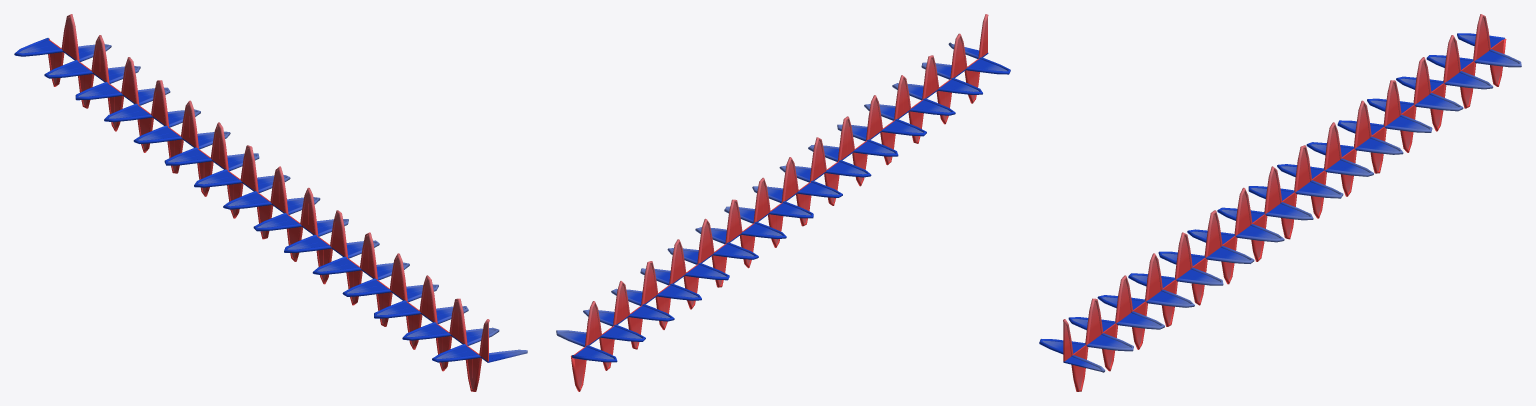
File: gamma-ray.glb
3 views of the same model, side by side, from view 1: azimuth 30°, elevation 25°; view 2: azimuth 150°, elevation 25°; view 3: azimuth 330°, elevation 25° (orthographic). The views are drawn at different scales.
Parts seen in each view (by area): view 1: Gamma; view 2: Gamma; view 3: Gamma.
Boxes of the visible parts, box(x1,y1,x2,y2) form: Gamma: box(14, 14, 527, 391); Gamma: box(556, 14, 1010, 391); Gamma: box(1039, 14, 1521, 391).
Bounding box in the file's own units: 0.6332 × 0.6332 × 5.94.
Materials: 4 (4 with a texture image).
